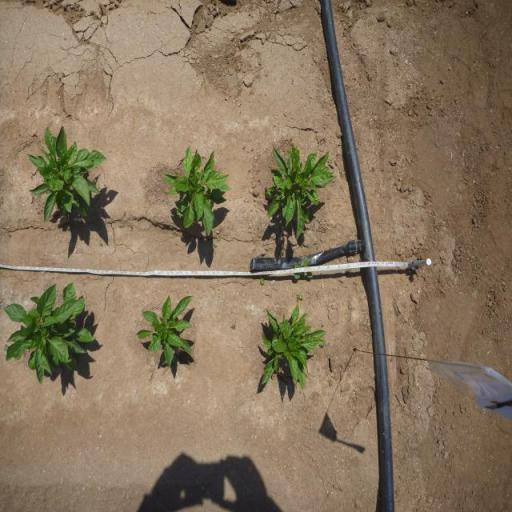plant: (0, 282, 96, 388), (32, 122, 109, 225), (252, 299, 329, 389), (265, 141, 334, 240), (164, 145, 231, 238), (136, 292, 197, 370)
weed: (294, 257, 312, 280), (295, 293, 305, 302), (259, 277, 265, 285), (230, 323, 236, 330), (279, 249, 285, 254), (216, 238, 222, 242), (99, 240, 103, 246), (214, 242, 216, 248)
